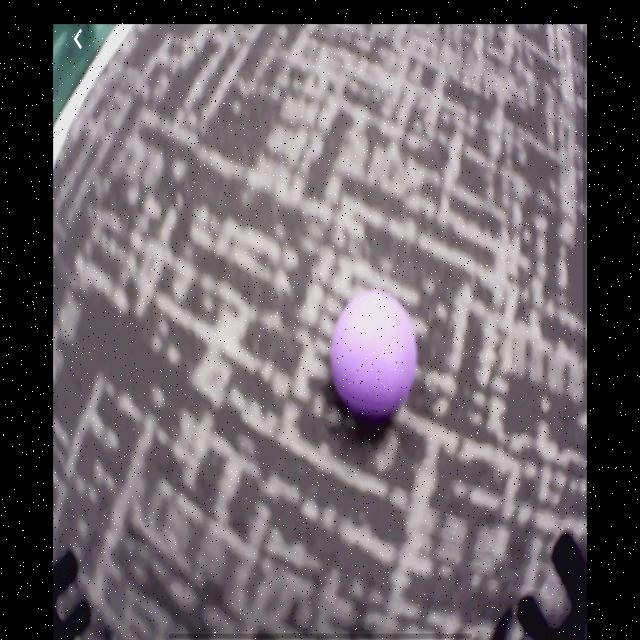ball: (331, 292, 419, 420)
